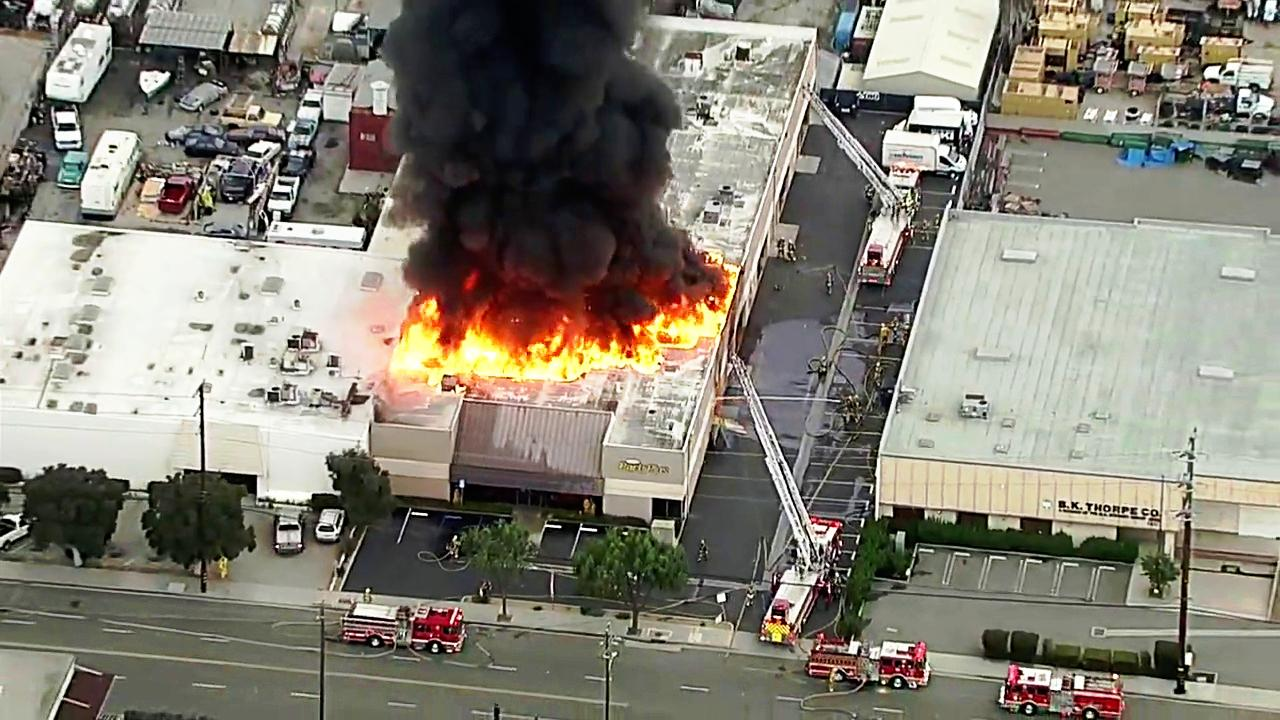fire: (495, 314, 653, 376), (627, 289, 729, 346), (389, 296, 449, 377), (447, 310, 510, 377)
smoke: (397, 12, 677, 295)
